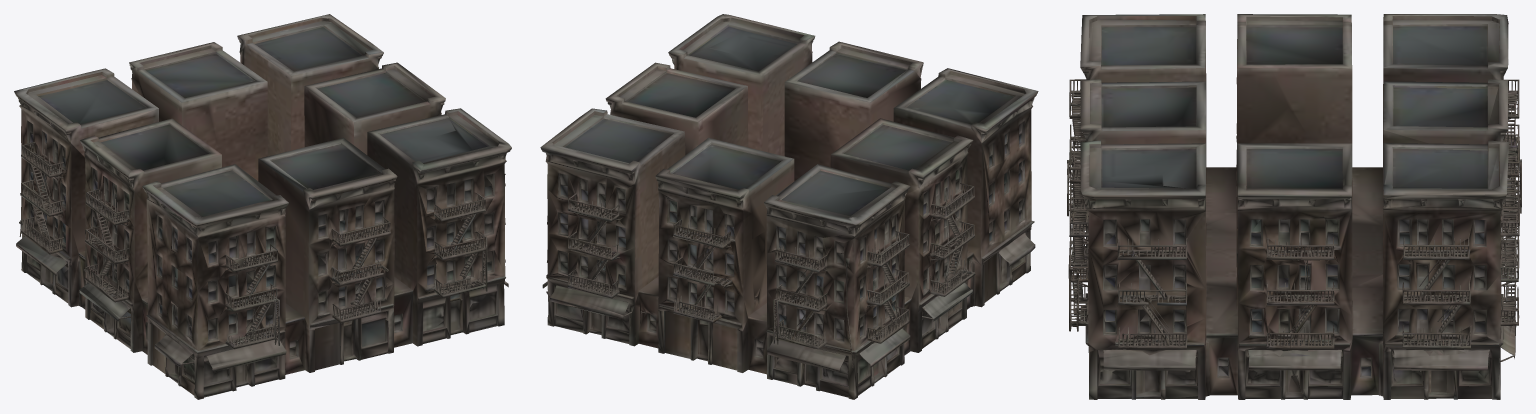
File: corner_block.glb
3 views of the same model, side by side, from view 1: azimuth 30°, elevation 25°; view 2: azimuth 150°, elevation 25°; view 3: azimuth 270°, elevation 25° (orthographic). The views are drawn at different scales.
Parts seen in each view (by area): view 1: mesh_node; view 2: mesh_node; view 3: mesh_node.
Boxes of the visible parts, x1,y1,x2,y2 form: mesh_node: (14, 14, 511, 399); mesh_node: (540, 14, 1038, 399); mesh_node: (1067, 14, 1521, 399).
Bounding box in the file's own units: 32.96 × 17 × 33.31.
Materials: 1 (1 with a texture image).
